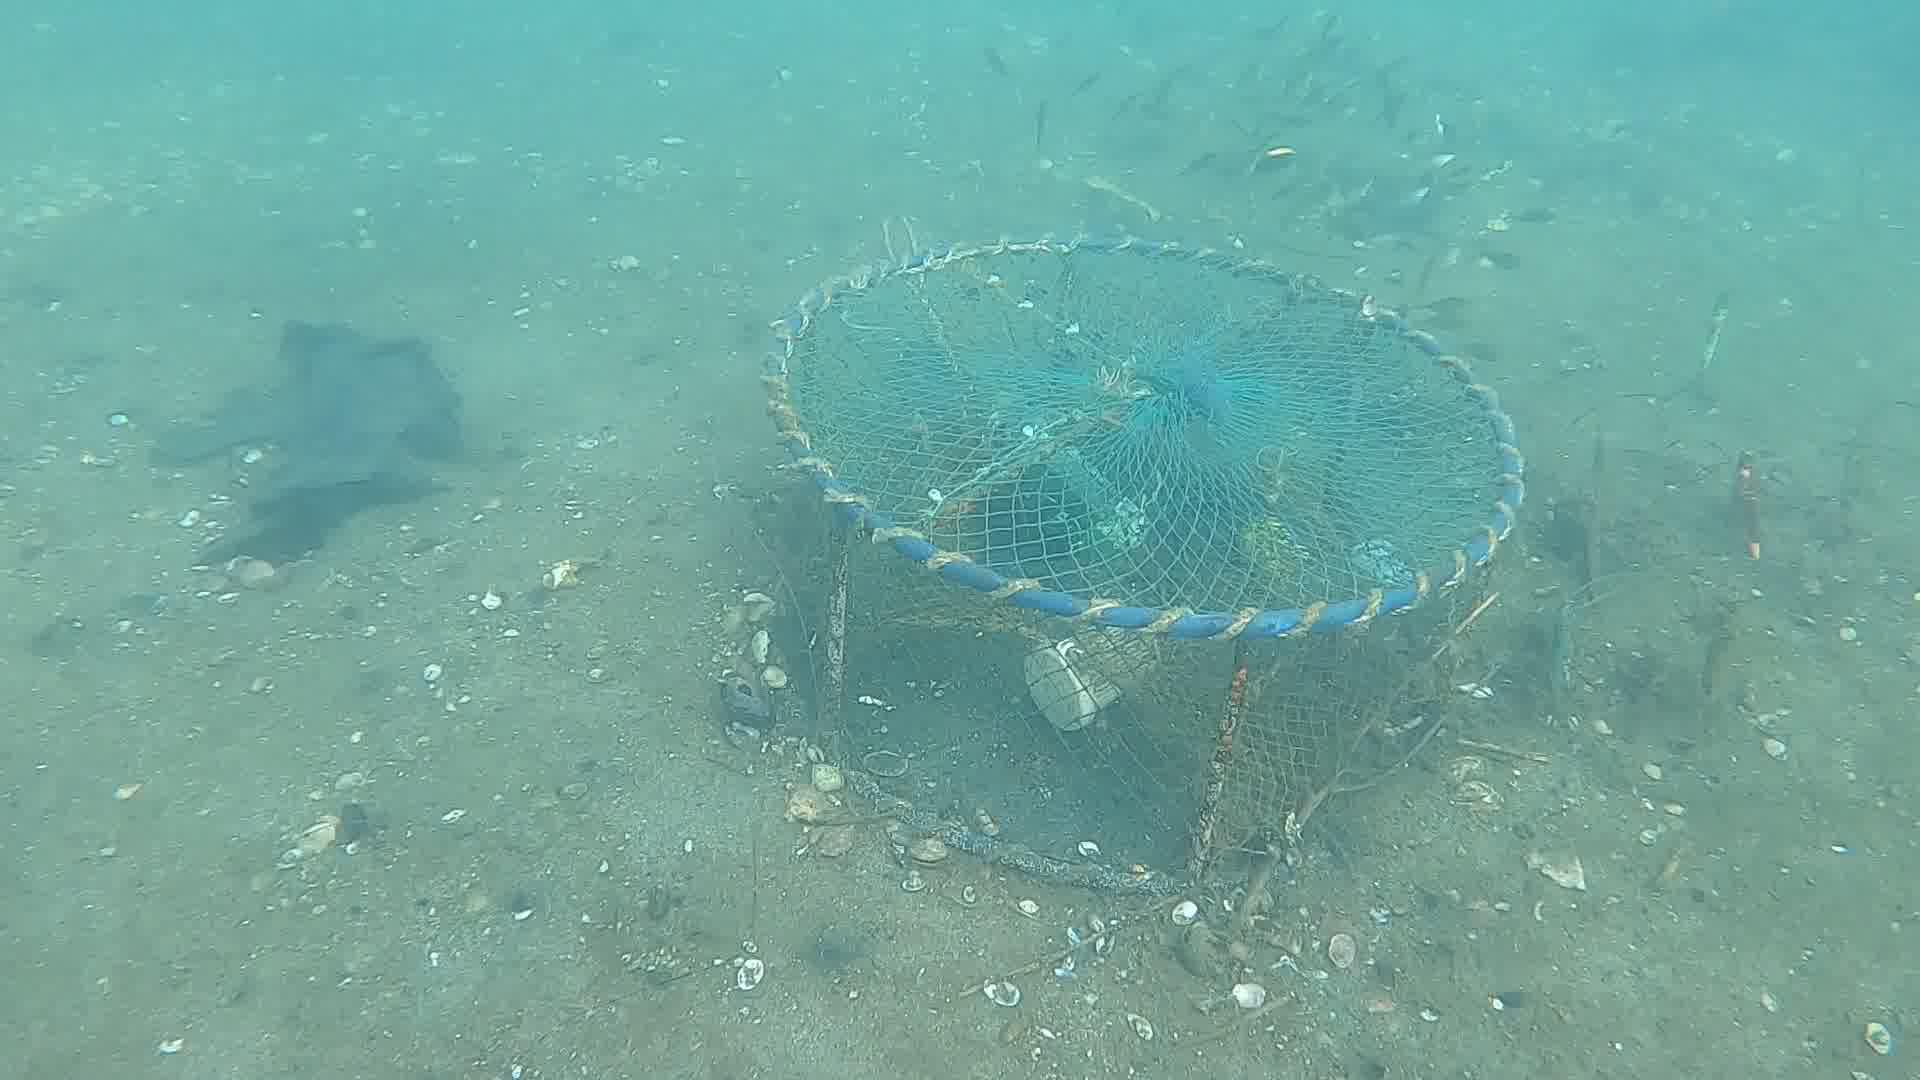circular fish trap: (761, 228, 1530, 902)
